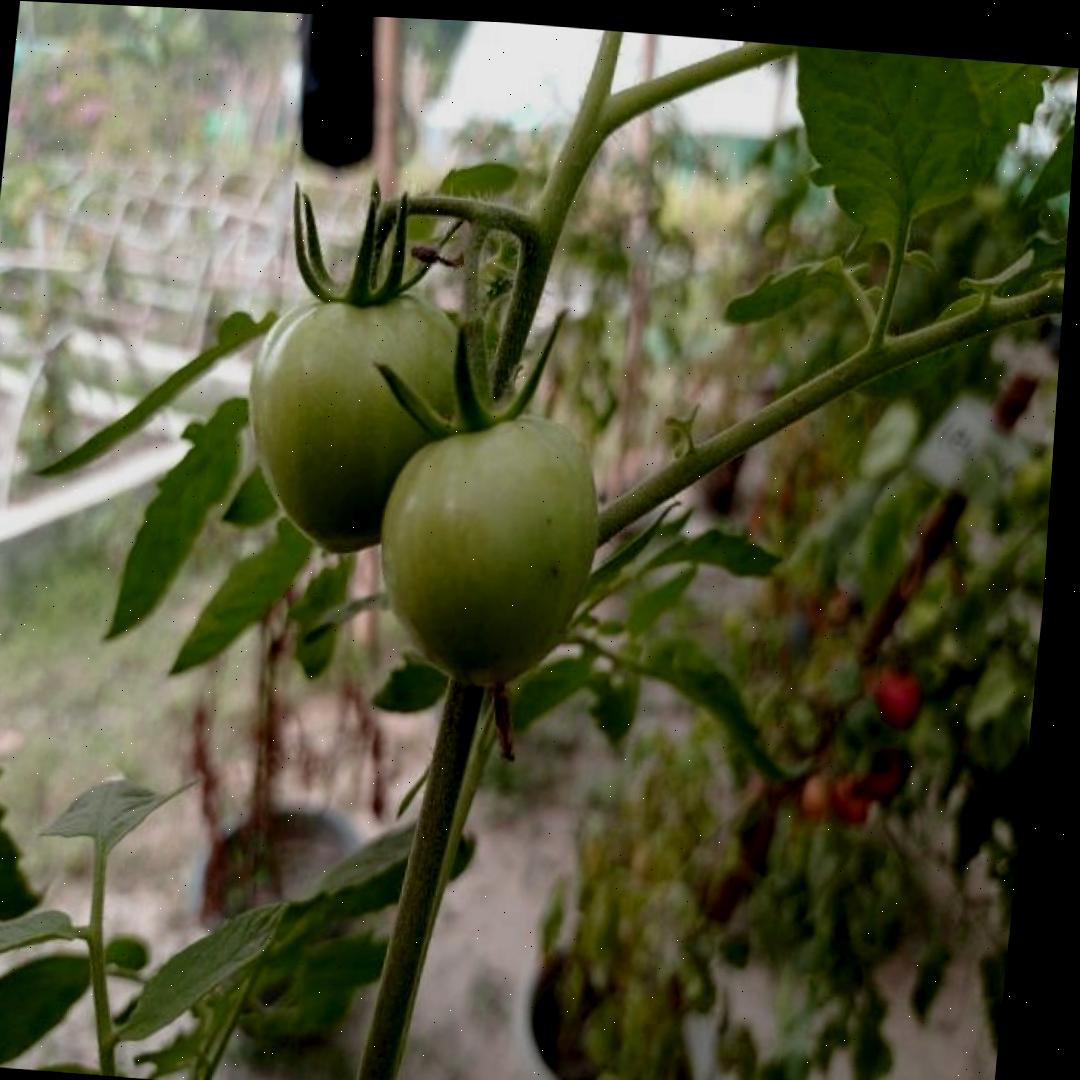mentah: (362, 399, 611, 697), (230, 276, 490, 561)
